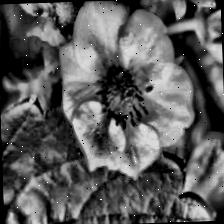Blossom Blight: (92, 55, 155, 134)
